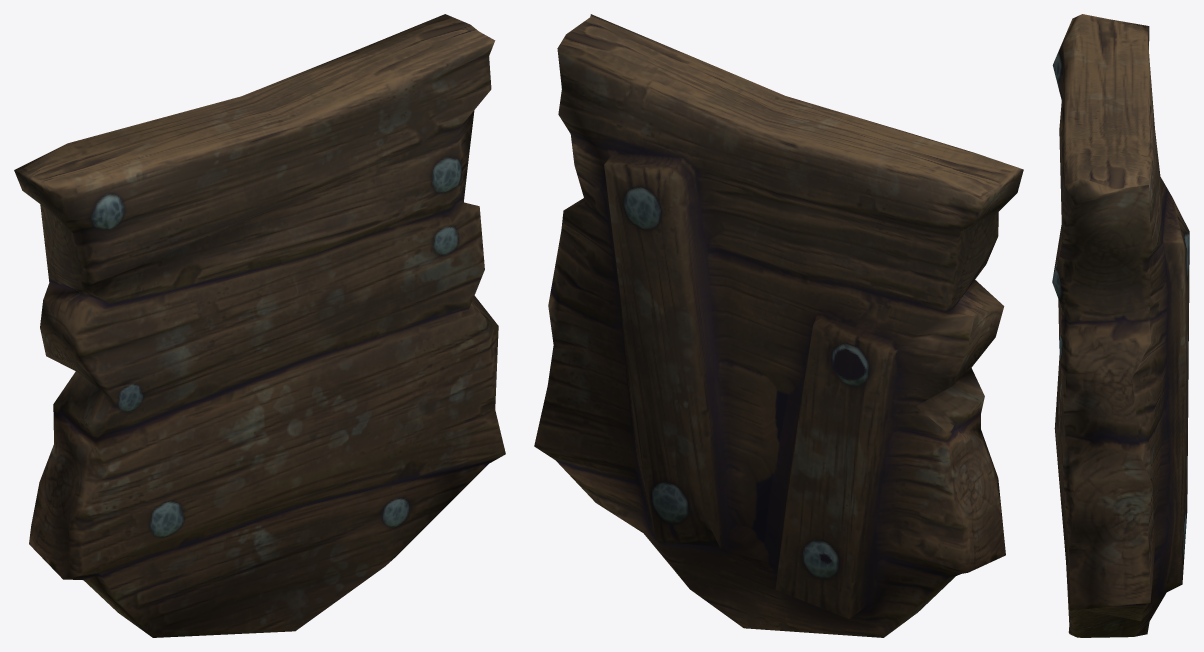
Rendered from S_MVillage_Signs_02_Broken_A.fbx.
3 views of the same model, side by side, from view 1: azimuth 30°, elevation 25°; view 2: azimuth 150°, elevation 25°; view 3: azimuth 270°, elevation 25° (orthographic).
Parts seen in each view (by area): view 1: S_MVillage_Signs_02_Broken_A_LOD0; view 2: S_MVillage_Signs_02_Broken_A_LOD0; view 3: S_MVillage_Signs_02_Broken_A_LOD0.
Boxes of the visible parts, bbox=[...] form: S_MVillage_Signs_02_Broken_A_LOD0: bbox=[14, 14, 505, 637]; S_MVillage_Signs_02_Broken_A_LOD0: bbox=[534, 14, 1023, 637]; S_MVillage_Signs_02_Broken_A_LOD0: bbox=[1052, 14, 1189, 637].
Size of what is drawn, in the model's own units: 86.36 by 99.42 by 22.6.
